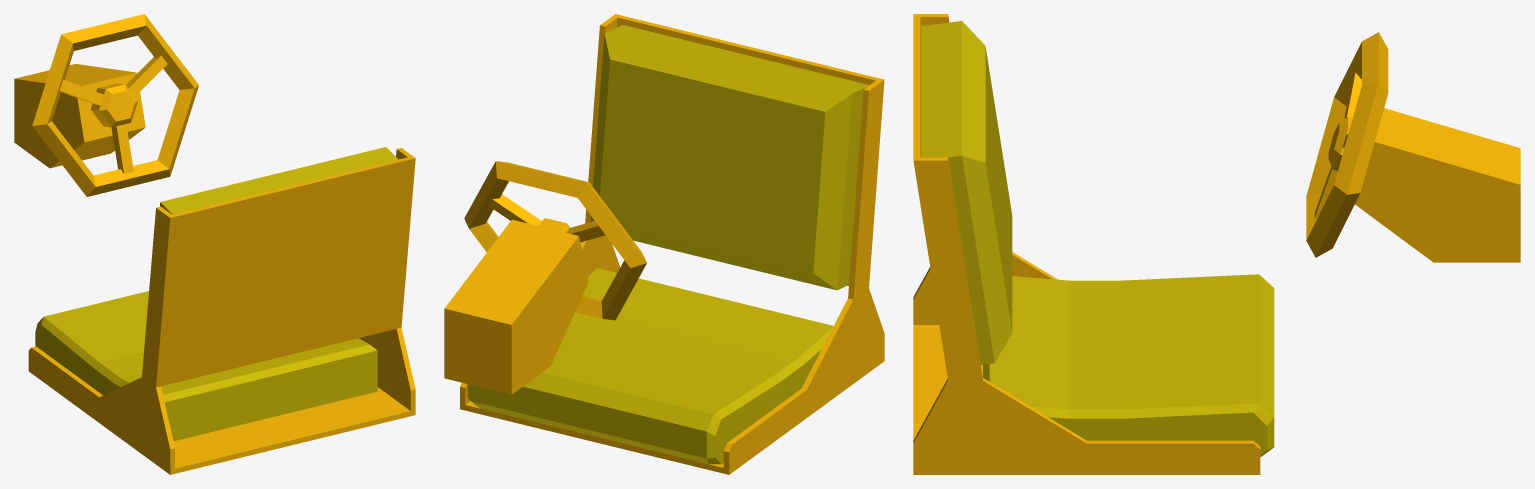
Rendered from seat_car_driver_tiny.dae.
3 views of the same model, side by side, from view 1: azimuth 30°, elevation 25°; view 2: azimuth 150°, elevation 25°; view 3: azimuth 270°, elevation 25° (orthographic). The views are drawn at different scales.
Visible parts, largest first — view 1: Cube; view 2: Cube; view 3: Cube.
Part boxes in pixels (bbox=[...]): Cube: bbox=[14, 14, 415, 474]; Cube: bbox=[444, 14, 884, 474]; Cube: bbox=[913, 14, 1520, 474].
Size of the model in its own units: 0.5 by 0.875 by 0.5482.
